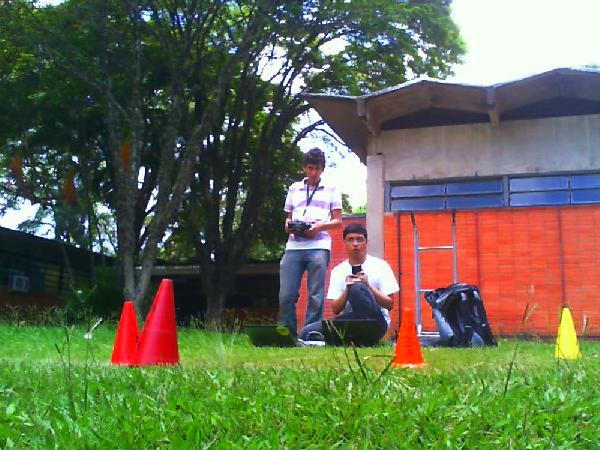0 cone: (140, 279, 180, 365), (390, 309, 427, 369), (112, 301, 140, 365), (554, 309, 582, 359)
